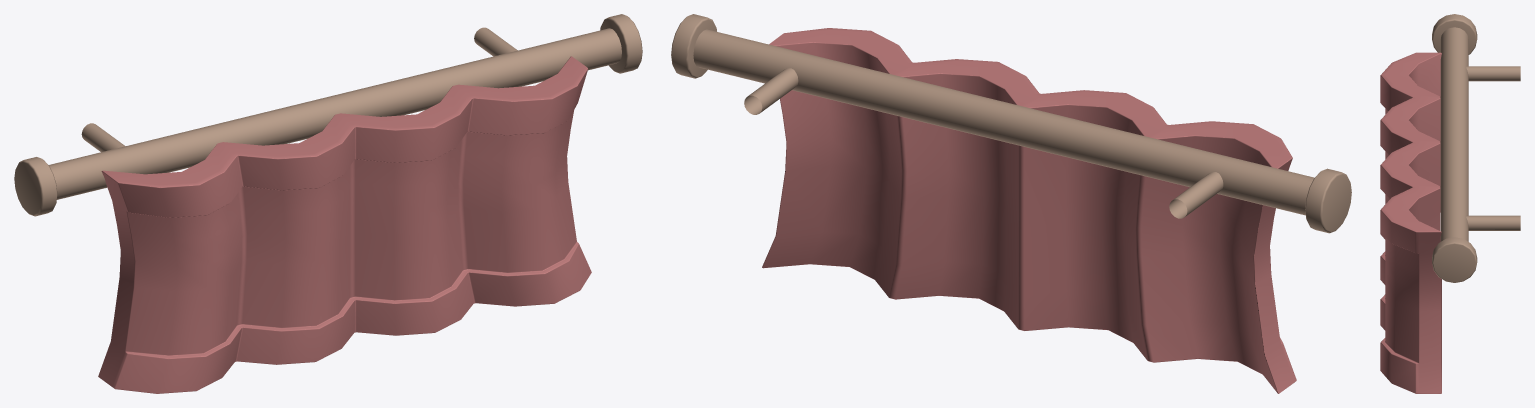
Rendered from Curtains_5.glb.
3 renders of one model, left to right at view 1: azimuth 30°, elevation 25°; view 2: azimuth 150°, elevation 25°; view 3: azimuth 270°, elevation 25°, orthographic. The views are drawn at different scales.
Visible parts, largest first — view 1: Curtains_5; view 2: Curtains_5; view 3: Curtains_5.
Part boxes in pixels (bbox=[...]): Curtains_5: bbox=[14, 14, 642, 393]; Curtains_5: bbox=[671, 14, 1351, 393]; Curtains_5: bbox=[1380, 14, 1520, 393].
Size of the model in its own units: 2.15 by 0.7644 by 0.5546.
Materials: 1 (1 with a texture image).
